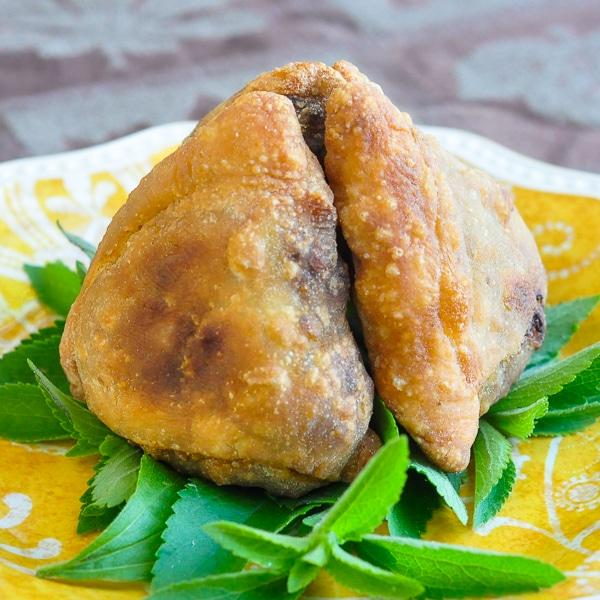samosa: (0, 61, 600, 600), (61, 61, 545, 496)
